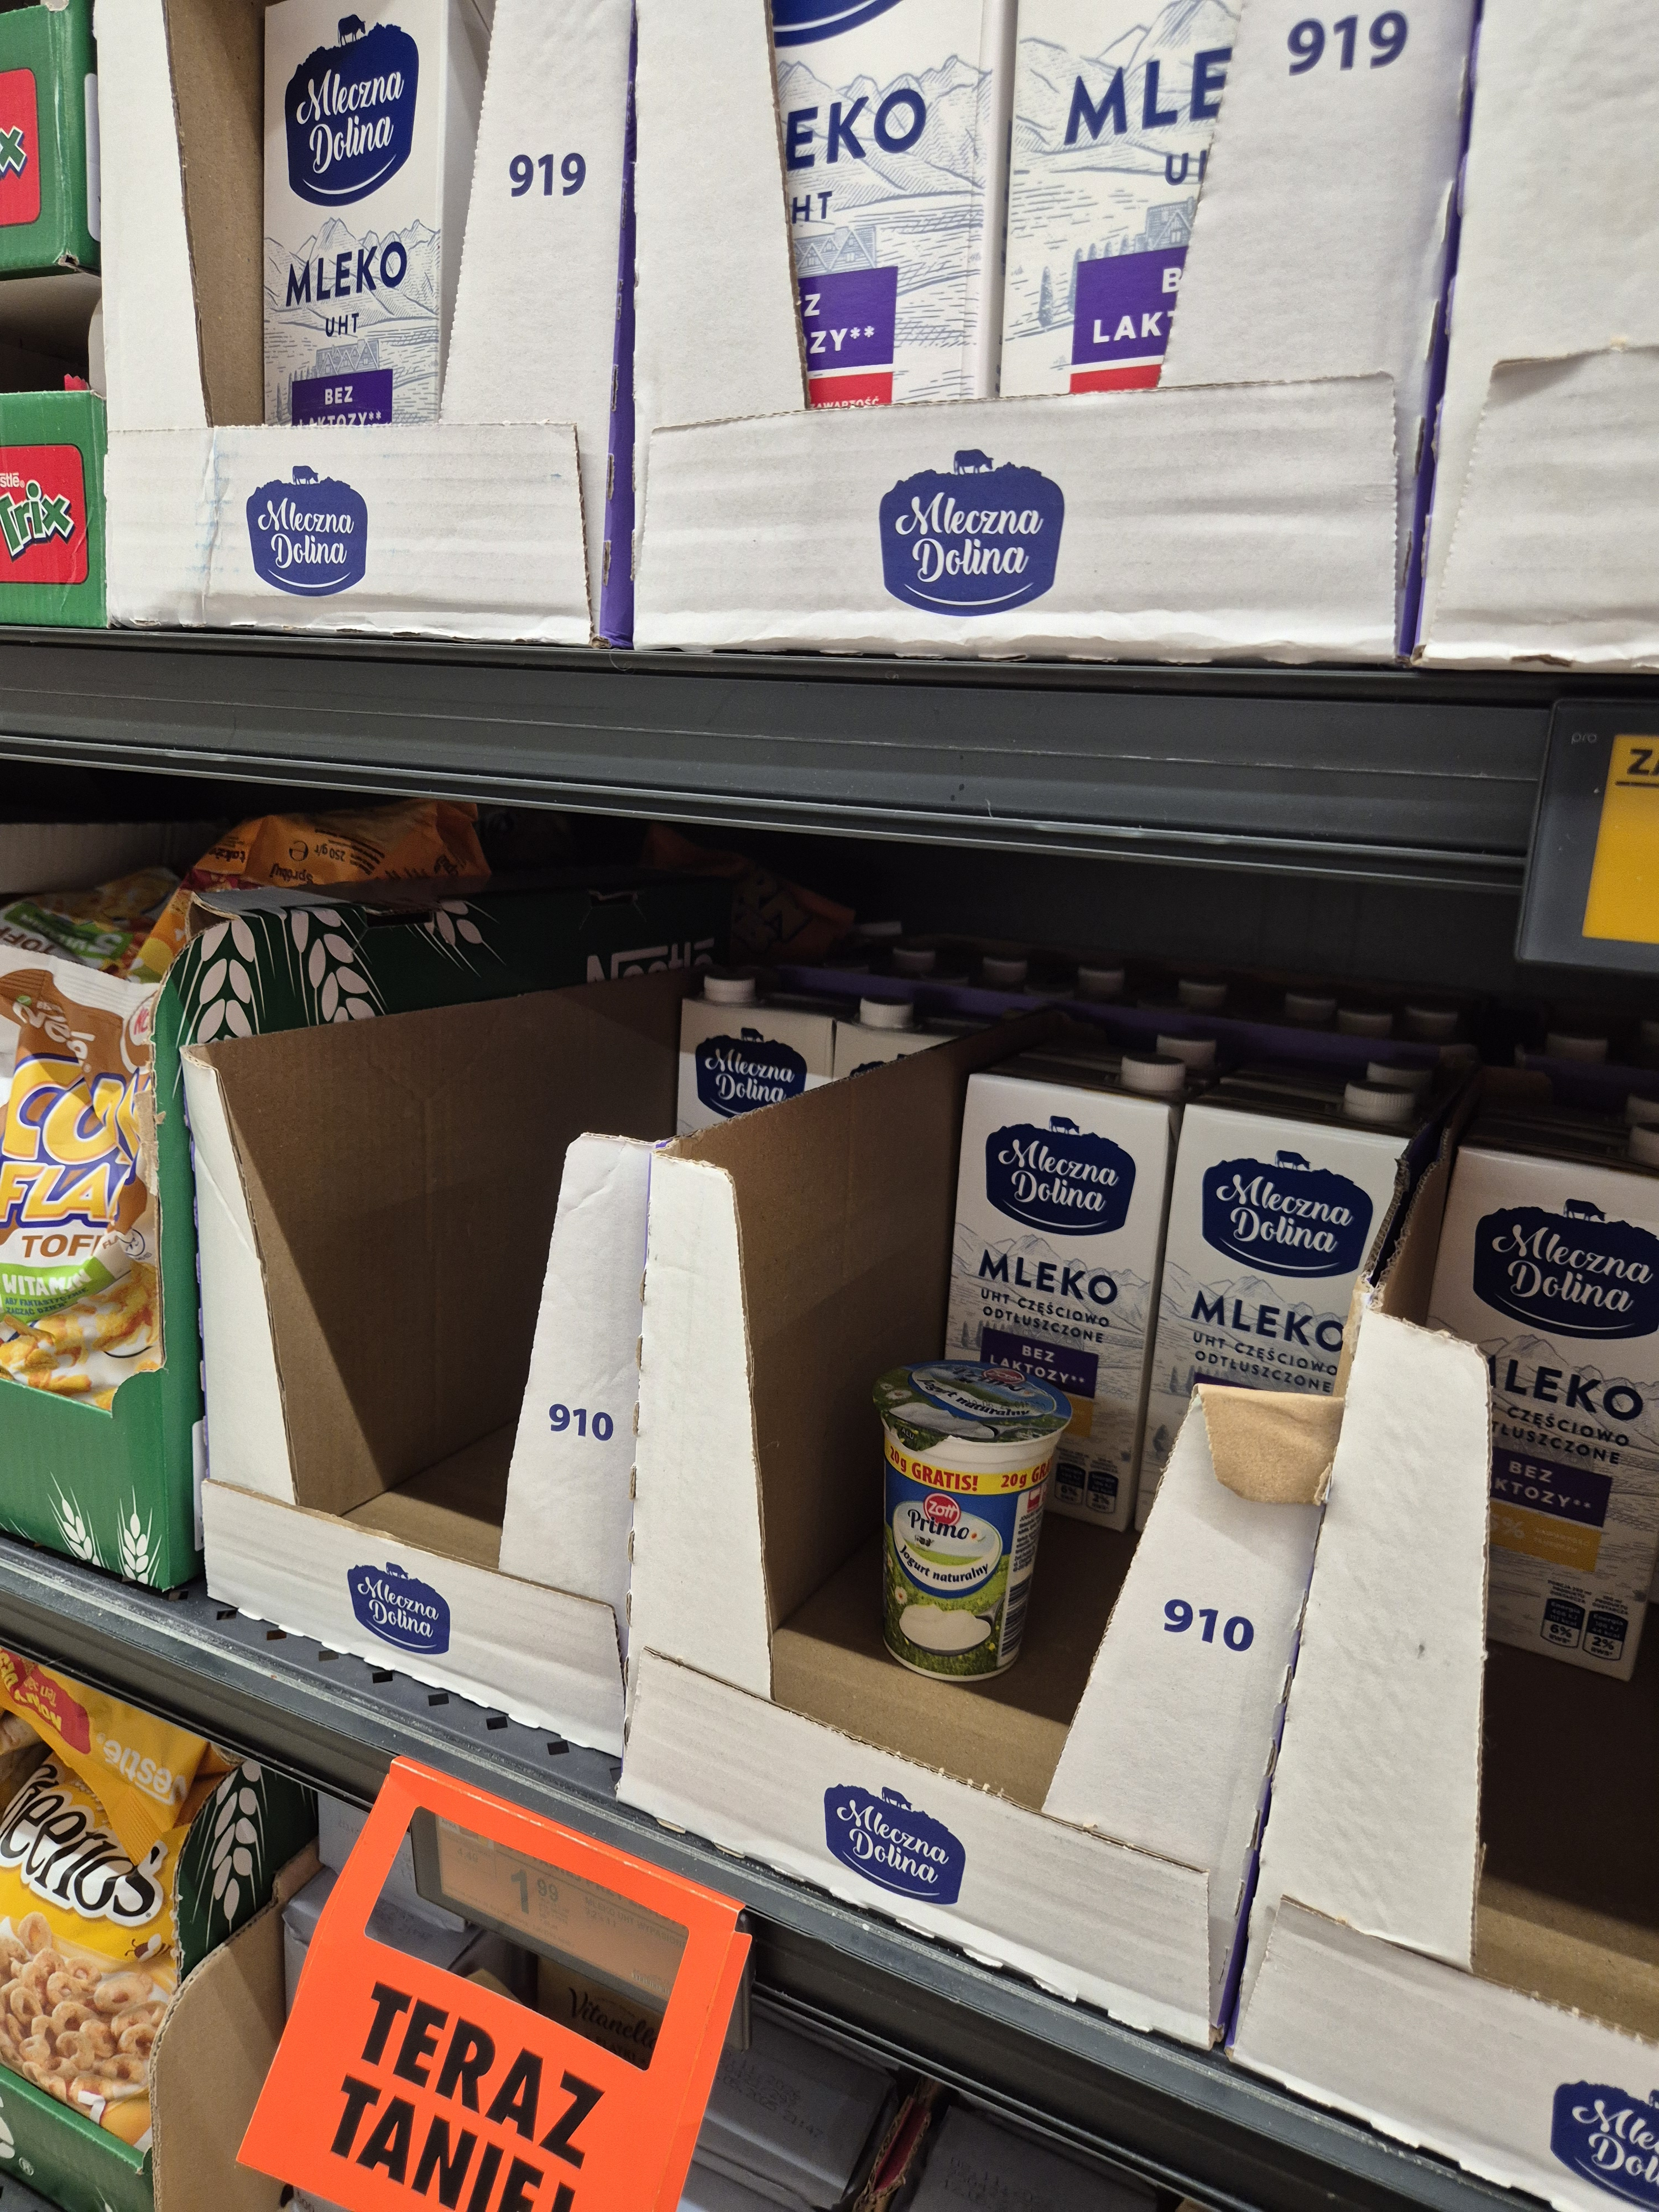Yogurt: (864, 1352, 1054, 1705)
